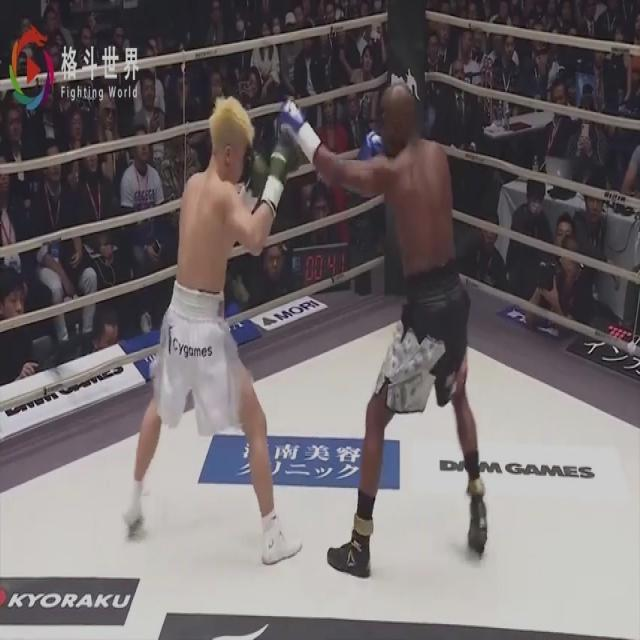fight: (126, 79, 487, 578)
